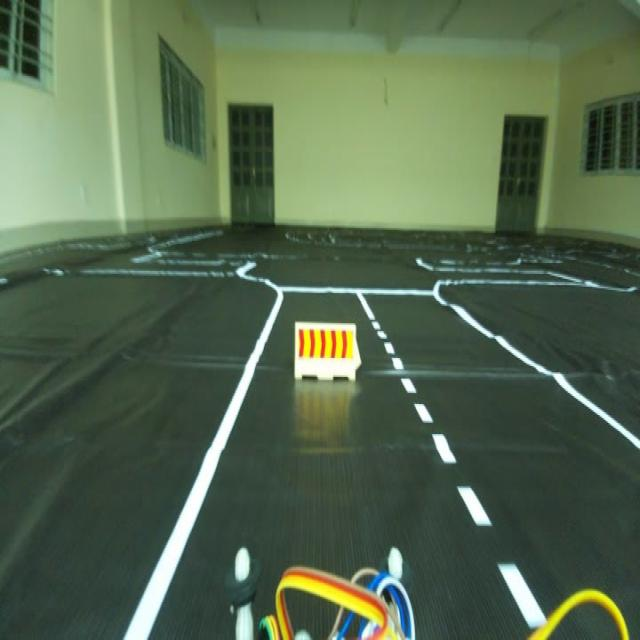roadblock: (290, 312, 368, 391)
